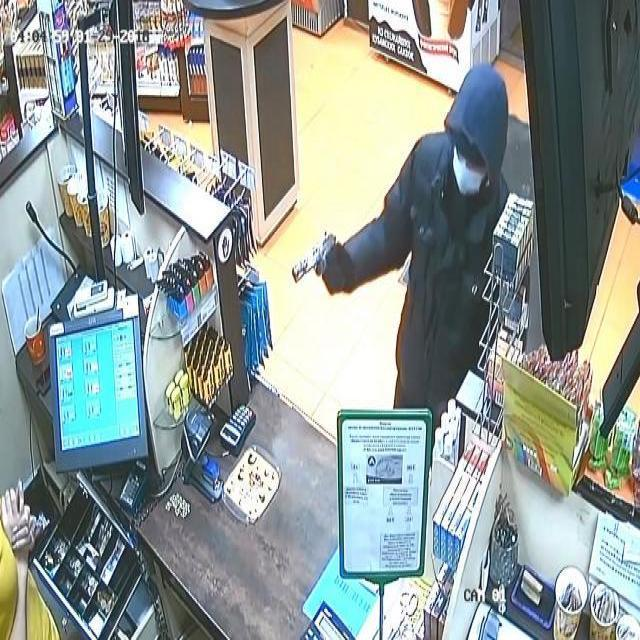pistol: (291, 231, 337, 285)
